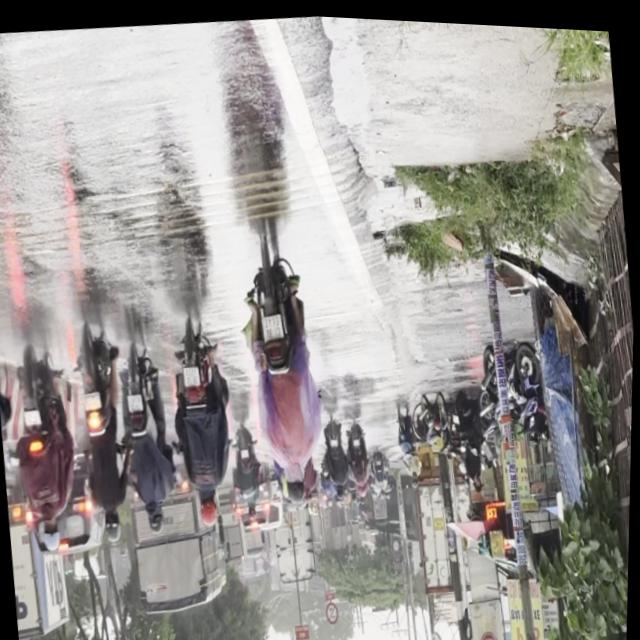helmet: (283, 465, 308, 506), (197, 489, 219, 526), (102, 509, 124, 543), (41, 518, 63, 552), (145, 503, 165, 534)
licenseplate: (227, 221, 335, 514), (0, 344, 88, 558), (63, 308, 141, 547), (161, 309, 244, 529), (113, 335, 182, 536)
nohelmet: (261, 310, 284, 339), (82, 389, 103, 410), (182, 363, 201, 384), (23, 408, 41, 427), (127, 391, 144, 409)
